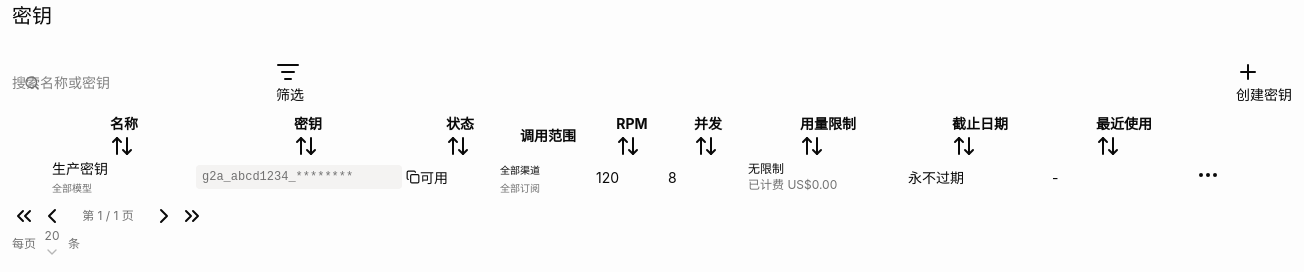
Test: ClientKeysPage 查询参数 › 搜索经过防抖后写入查询参数并回到第 1 页
expect the row with test id "client-keys-row-key-1" is shown: met, box [12,158,1236,196]
Type "生产" into the field with test id "client-keys-search" at (121,82), box [12,72,230,93]
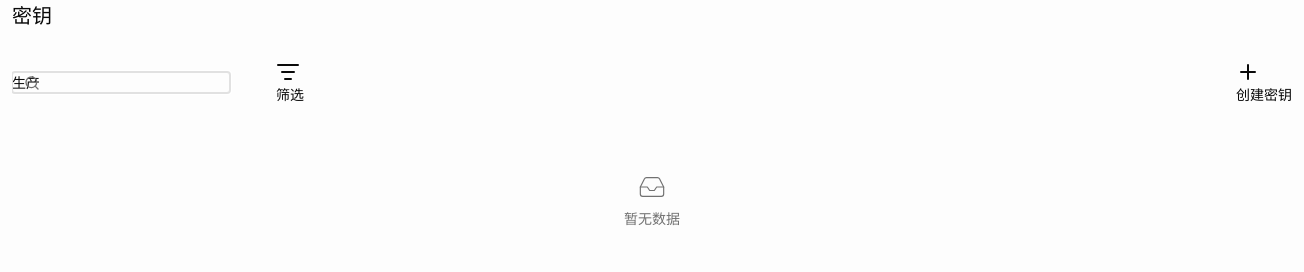
expect the element with test id "client-keys-empty" is shown: met, box [624,173,680,227]
